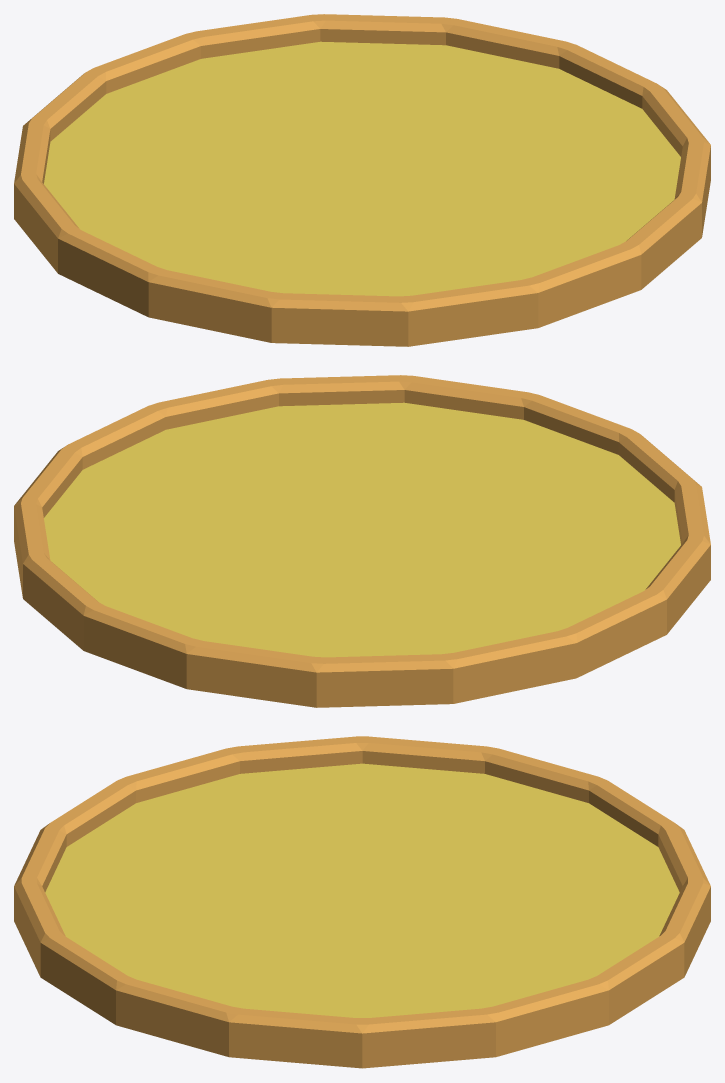
Rendered from Pizza.fbx.
3 views of the same model, one above another, from view 1: azimuth 30°, elevation 25°; view 2: azimuth 150°, elevation 25°; view 3: azimuth 270°, elevation 25° (orthographic).
Visible parts, largest first — view 1: Cylinder.001, Cylinder; view 2: Cylinder.001, Cylinder; view 3: Cylinder.001, Cylinder.
Part boxes in pixels (<box>): Cylinder.001: <box>44,41,680,296</box>; Cylinder: <box>14,14,710,346</box>; Cylinder.001: <box>44,402,680,657</box>; Cylinder: <box>14,375,710,707</box>; Cylinder.001: <box>45,763,679,1017</box>; Cylinder: <box>14,736,710,1068</box>.
Bounding box in the file's own units: 200 × 12.89 × 200.
